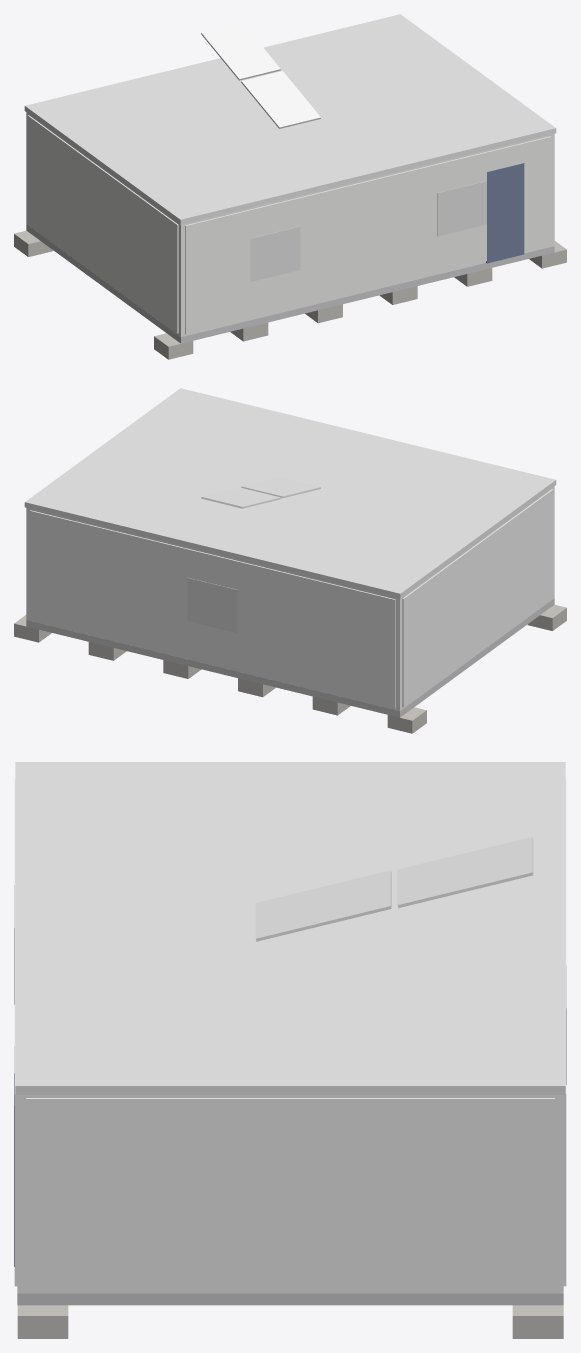
The model's file is Studio-30-FullSolar-LOD2.glb.
3 renders of one model, top to bottom at view 1: azimuth 30°, elevation 25°; view 2: azimuth 150°, elevation 25°; view 3: azimuth 270°, elevation 25°, orthographic. The views are drawn at different scales.
Visible parts, largest first — view 1: RoofMain, ExteriorPanelsStandard, SolarPanelArray, WindowsStandard, BaseFrame, FoundationBlocks, ExteriorShell, EntryDoor; view 2: RoofMain, ExteriorPanelsStandard, BaseFrame, ExteriorShell, FoundationBlocks, WindowsStandard, SolarPanelArray; view 3: RoofMain, ExteriorPanelsStandard, SolarPanelArray, BaseFrame, ExteriorShell, FoundationBlocks.
Part boxes in pixels (x1=…): RoofMain: x1=24, y1=14, x2=556, y2=224; ExteriorPanelsStandard: x1=27, y1=115, x2=550, y2=334; SolarPanelArray: x1=201, y1=22, x2=320, y2=128; WindowsStandard: x1=250, y1=181, x2=486, y2=281; BaseFrame: x1=26, y1=224, x2=554, y2=343; FoundationBlocks: x1=14, y1=230, x2=566, y2=359; ExteriorShell: x1=26, y1=112, x2=554, y2=336; EntryDoor: x1=486, y1=163, x2=524, y2=263; RoofMain: x1=24, y1=388, x2=556, y2=598; ExteriorPanelsStandard: x1=30, y1=489, x2=553, y2=708; BaseFrame: x1=26, y1=598, x2=554, y2=717; ExteriorShell: x1=26, y1=486, x2=554, y2=710; FoundationBlocks: x1=14, y1=604, x2=566, y2=733; WindowsStandard: x1=187, y1=577, x2=237, y2=633; SolarPanelArray: x1=201, y1=477, x2=320, y2=508; RoofMain: x1=15, y1=762, x2=565, y2=1094; ExteriorPanelsStandard: x1=14, y1=779, x2=566, y2=1290; SolarPanelArray: x1=255, y1=836, x2=533, y2=941; BaseFrame: x1=17, y1=1293, x2=563, y2=1305; ExteriorShell: x1=17, y1=1095, x2=563, y2=1293; FoundationBlocks: x1=17, y1=1305, x2=563, y2=1338.
Size of the model in its own units: 9.6 by 4.07 by 6.53.
